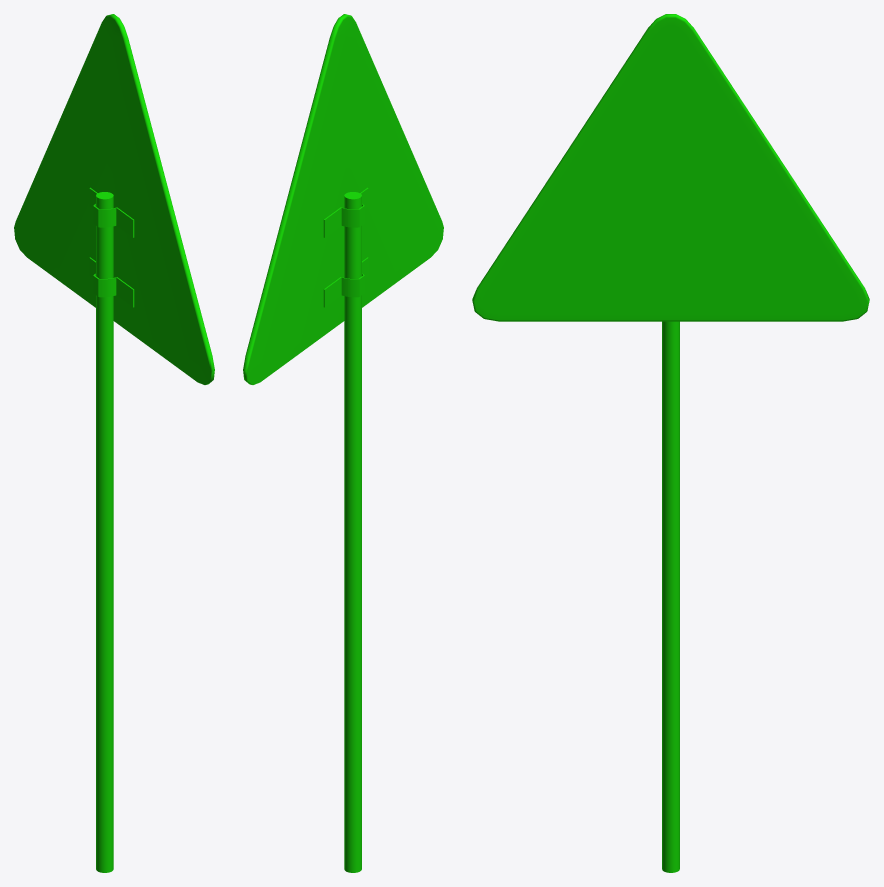
File: roadsign.fbx
The picture shows the model from 3 angles, left to right: view 1: azimuth 30°, elevation 25°; view 2: azimuth 150°, elevation 25°; view 3: azimuth 270°, elevation 25°; orthographic projection.
Visible parts, largest first — view 1: Cylinder; view 2: Cylinder; view 3: Cylinder.
Boxes of the visible parts, <box> form: Cylinder: <box>14,14,214,872</box>; Cylinder: <box>243,14,443,872</box>; Cylinder: <box>472,14,869,872</box>.
Size of the model in its own units: 6.34 by 238 by 99.52.
